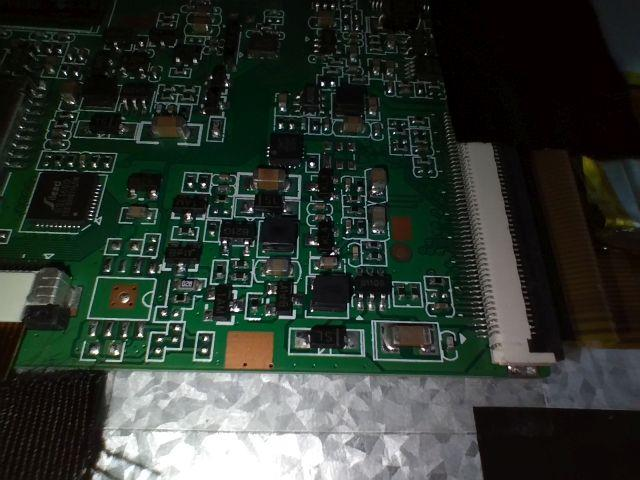capacitor: (374, 312, 448, 365), (232, 163, 304, 199), (358, 196, 398, 252), (140, 109, 200, 146), (358, 152, 394, 207), (249, 247, 299, 284), (327, 110, 377, 142)
resistor: (383, 114, 411, 132), (361, 250, 390, 265), (385, 141, 410, 157), (212, 192, 236, 207), (409, 112, 431, 128), (423, 275, 455, 286), (410, 131, 434, 145), (196, 170, 210, 192)
